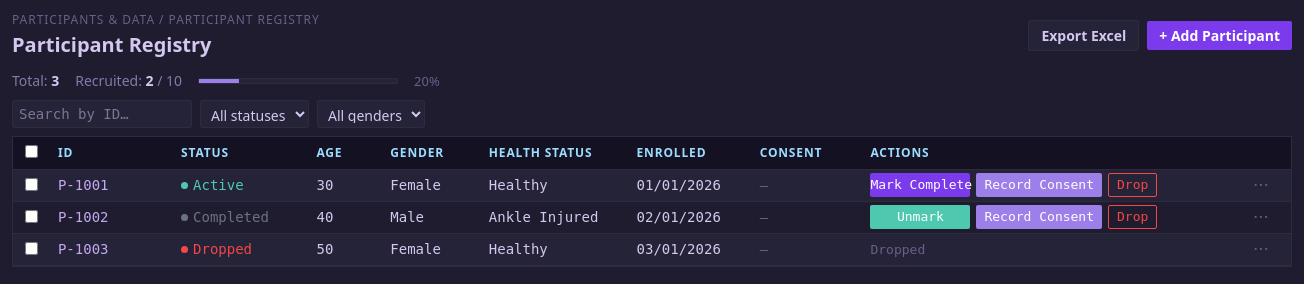
it: ParticipantsDisplay › search filters by id
Type "1002" into the field with placeholder "Search by ID…" at (102, 114), box [12,100,192,128]
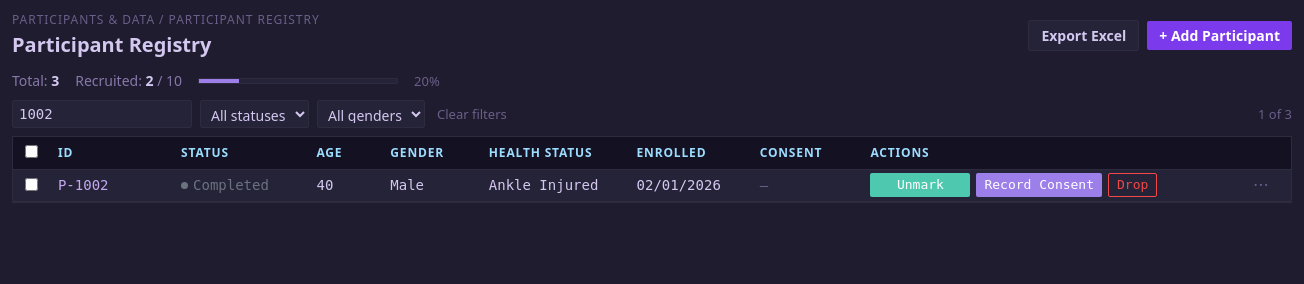
Expected: the text "P-1002" is shown, [58,177,108,193]
Result: the text "P-1001" is gone
